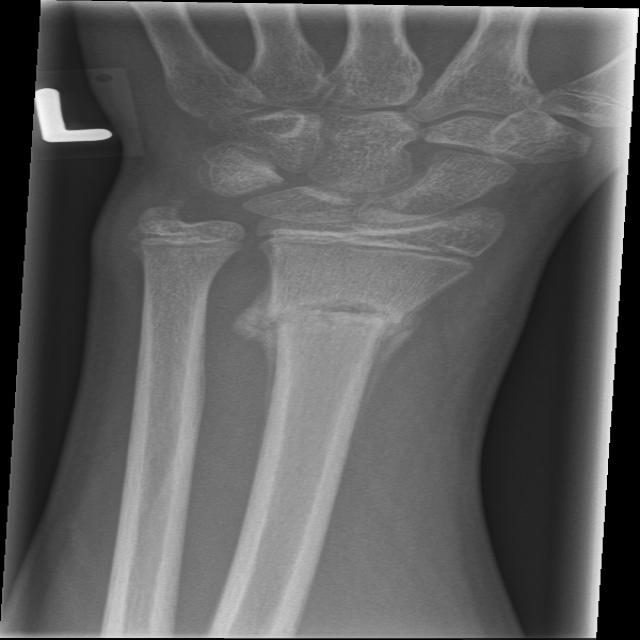radius fracture: (223, 262, 446, 442)
